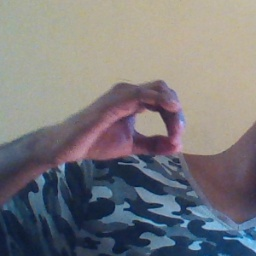O: (69, 73, 196, 171)
